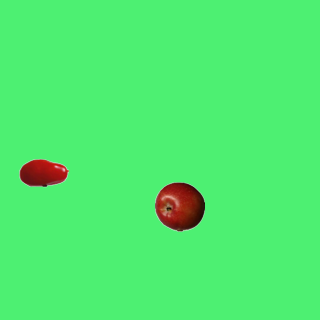Apple Braeburn: (154, 181, 204, 231)
Tomato 2: (18, 147, 68, 197)
